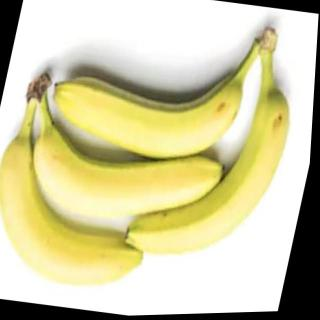banana: (122, 70, 302, 274), (0, 130, 170, 299), (42, 46, 252, 176), (21, 118, 233, 242)
